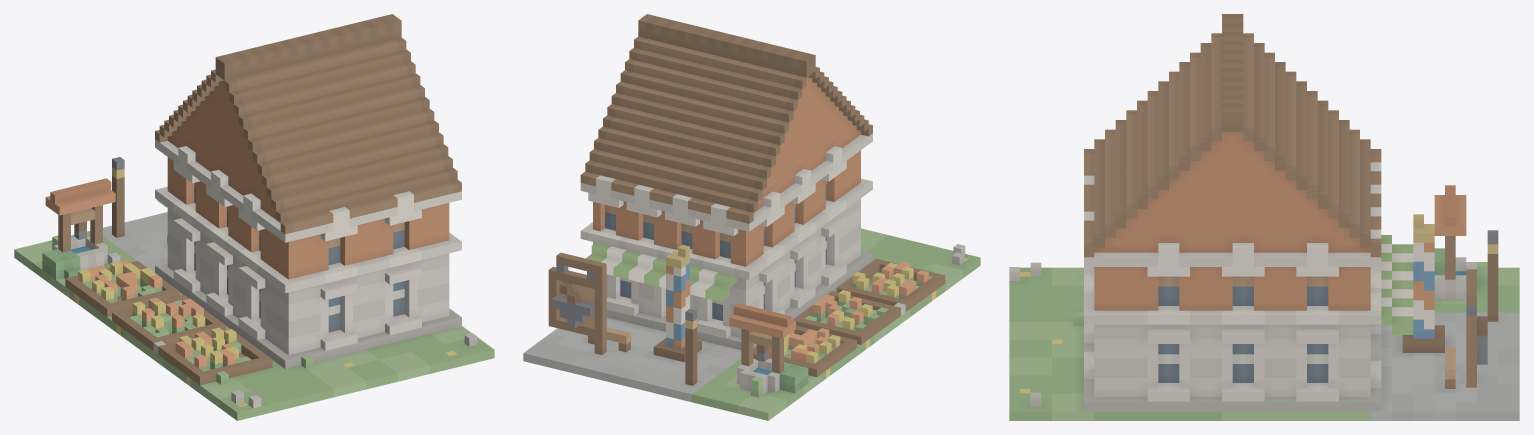
Rendered from surgery.glb.
3 renders of one model, left to right at view 1: azimuth 30°, elevation 25°; view 2: azimuth 150°, elevation 25°; view 3: azimuth 270°, elevation 25°, orthographic. The views are drawn at different scales.
Parts seen in each view (by area): view 1: surgery; view 2: surgery; view 3: surgery.
Part boxes in pixels (bbox=[...]): surgery: bbox=[14, 14, 494, 420]; surgery: bbox=[523, 14, 980, 420]; surgery: bbox=[1009, 14, 1519, 420].
Bounding box in the file's own units: 4 × 4 × 6.
